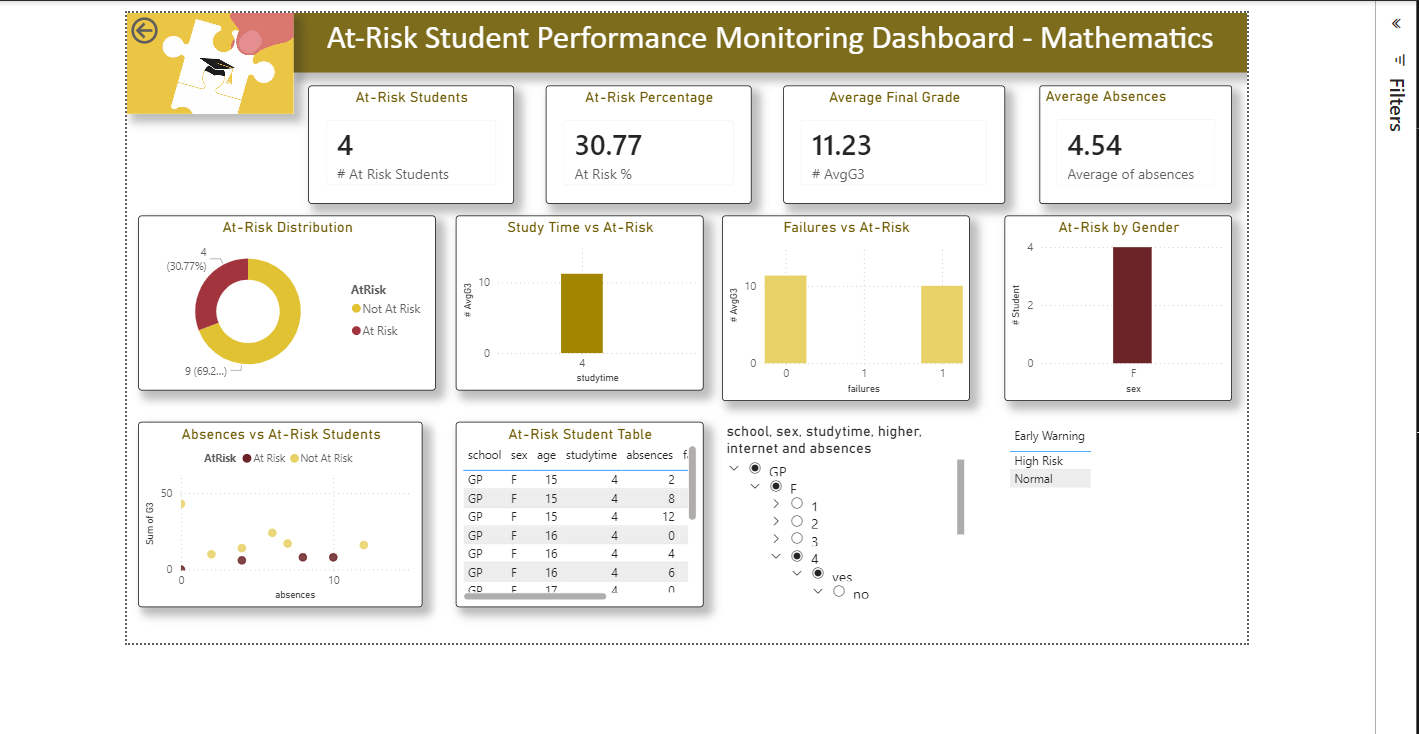

The dashboard page shown, as its layout file describes it:
{"tool":"powerbi","page":{"name":"Identify at-risk students","canvas":[1280,720],"ordinal":2},"visuals":[{"type":"textbox","box":[190,0,1090,68.3],"z":0},{"type":"image","box":[0,0,190,115],"z":1},{"type":"cardVisual","title":"At-Risk Students","fields":{"Data":["student-mat.# At Risk Students"]},"box":[206.7,83.3,235,135],"z":2},{"type":"cardVisual","title":"At-Risk Percentage","fields":{"Data":["student-mat.At Risk %"]},"box":[478.3,83.3,235,135],"z":3},{"type":"cardVisual","title":"Average Final Grade","fields":{"Data":["student-mat.# AvgG3"]},"box":[750,83.3,253.3,135],"z":4},{"type":"cardVisual","title":"Average Absences","fields":{"Data":["Avg(student-mat.absences)"]},"box":[1043.3,83.3,220,135],"z":5},{"type":"donutChart","title":"At-Risk Distribution","fields":{"Category":["student-mat.AtRisk"],"Y":["student-mat.# Student"]},"box":[13.3,231.7,340,200],"z":6},{"type":"scatterChart","title":"Absences vs At-Risk Students","fields":{"X":["student-mat.absences"],"Y":["Sum(student-mat.G3)"],"Series":["student-mat.AtRisk"]},"box":[13.3,466.7,325,211.7],"z":7},{"type":"clusteredColumnChart","title":"Study Time vs At-Risk","fields":{"Category":["student-mat.studytime"],"Y":["student-mat.# AvgG3"]},"box":[375,231.7,283.3,200],"z":8},{"type":"clusteredColumnChart","title":"Failures vs At-Risk","fields":{"Category":["student-mat.failures"],"Y":["student-mat.# AvgG3"]},"box":[680,231.7,283.3,211.7],"z":9},{"type":"clusteredColumnChart","title":"At-Risk by Gender","fields":{"Category":["student-mat.sex"],"Y":["student-mat.# Student"]},"box":[1003.3,231.7,260,211.7],"z":10},{"type":"tableEx","title":"At-Risk Student Table","fields":{"Values":["student-mat.school","student-mat.sex","student-mat.age","student-mat.studytime","student-mat.absences","student-mat.failures","student-mat.G3","student-mat.AtRisk"]},"box":[375,467,283,212],"z":11},{"type":"actionButton","box":[0,0,100,40],"z":12},{"type":"listSlicer","fields":{"Values":["student-mat.school","student-mat.sex","student-mat.studytime","student-mat.higher","student-mat.internet","student-mat.absences","student-mat.failures"]},"box":[680,467.1,282.9,211.4],"z":13},{"type":"tableEx","fields":{"Values":["student-mat.Early Warning"]},"box":[1003,467,260,211],"z":14}]}

Visuals, with their boxes on the page's 1280x720 design canvas (x1, y1, x2, y2). These are canvas units, not pixel positions in the 1419x734 screenshot, which may show the page scaled, cropped or inside an application window:
textbox: bbox(190, 0, 1280, 68)
image: bbox(0, 0, 190, 115)
"At-Risk Students" cardVisual: bbox(207, 83, 442, 218)
"At-Risk Percentage" cardVisual: bbox(478, 83, 713, 218)
"Average Final Grade" cardVisual: bbox(750, 83, 1003, 218)
"Average Absences" cardVisual: bbox(1043, 83, 1263, 218)
"At-Risk Distribution" donutChart: bbox(13, 232, 353, 432)
"Absences vs At-Risk Students" scatterChart: bbox(13, 467, 338, 678)
"Study Time vs At-Risk" clusteredColumnChart: bbox(375, 232, 658, 432)
"Failures vs At-Risk" clusteredColumnChart: bbox(680, 232, 963, 443)
"At-Risk by Gender" clusteredColumnChart: bbox(1003, 232, 1263, 443)
"At-Risk Student Table" tableEx: bbox(375, 467, 658, 679)
actionButton: bbox(0, 0, 100, 40)
listSlicer - student-mat.school x student-mat.sex: bbox(680, 467, 963, 678)
tableEx - student-mat.Early Warning: bbox(1003, 467, 1263, 678)
